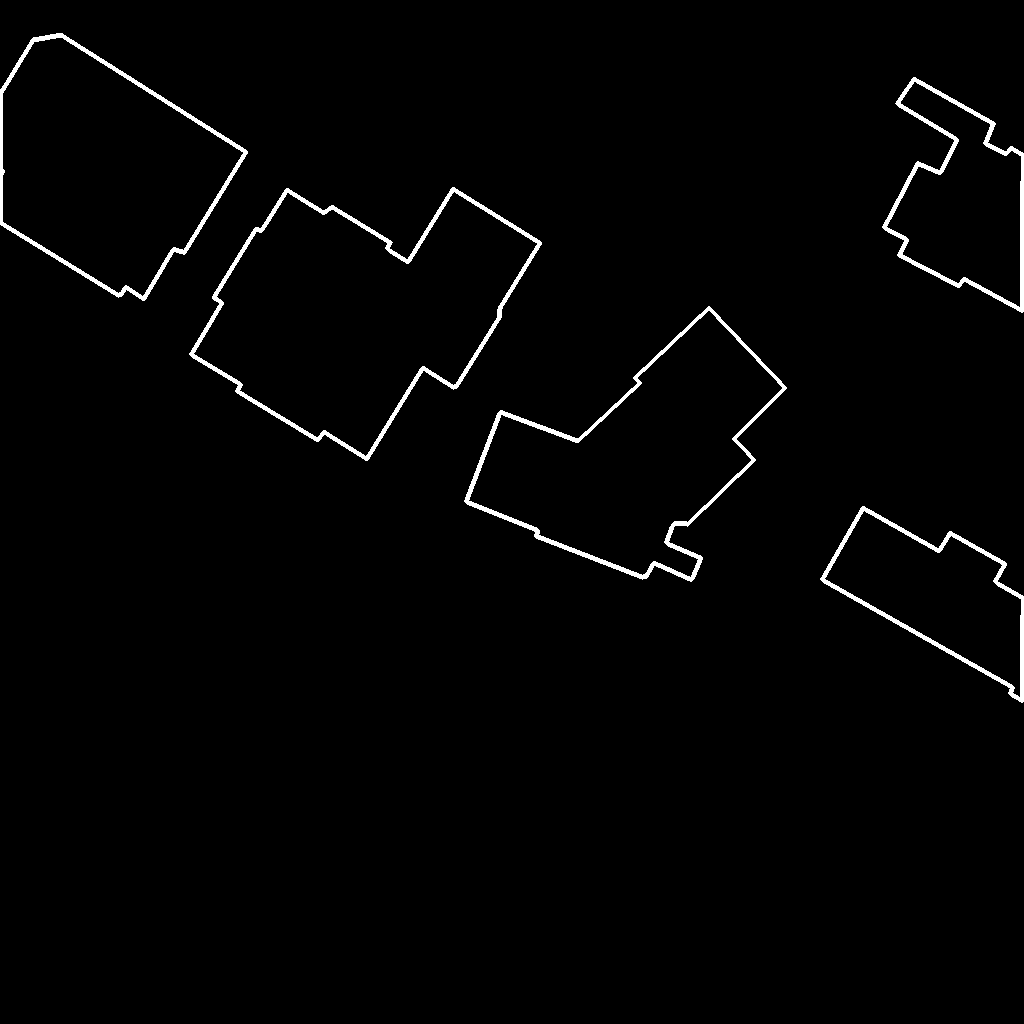building: (191, 189, 541, 460), (466, 308, 786, 581), (0, 34, 247, 300), (822, 508, 1024, 702), (884, 79, 1024, 312)
